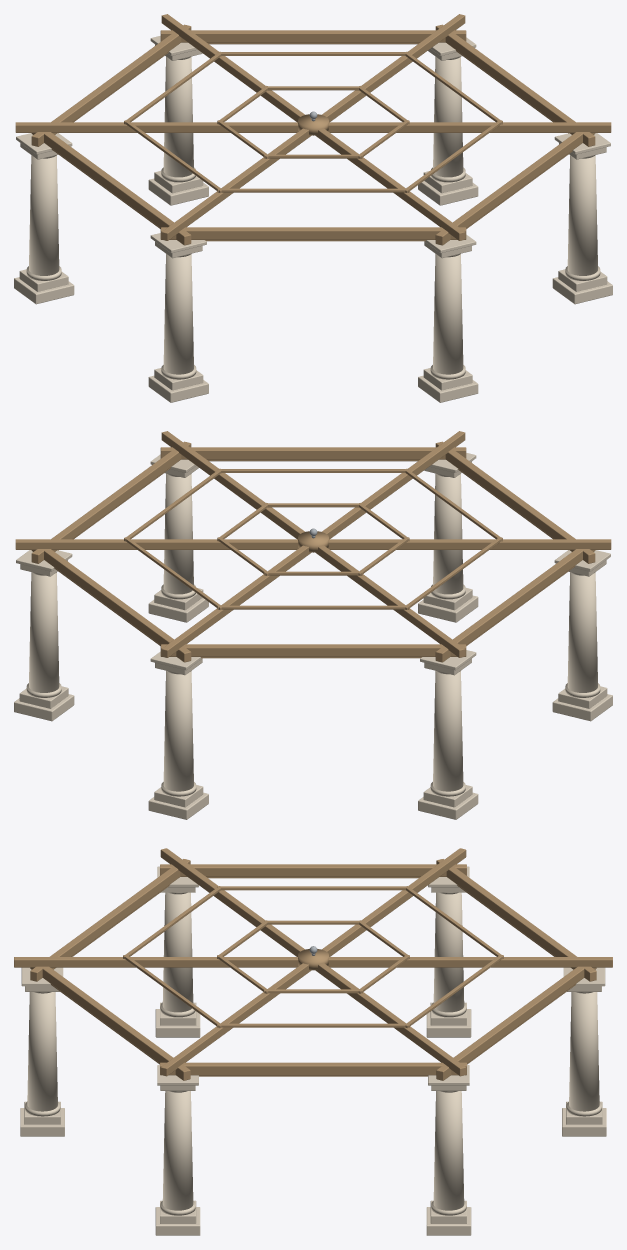
Rendered from park_pergola.glb.
The picture shows the model from 3 angles, top to bottom: view 1: azimuth 30°, elevation 25°; view 2: azimuth 150°, elevation 25°; view 3: azimuth 270°, elevation 25°; orthographic projection.
Visible parts, largest first — view 1: pergola_ring_beam.003, pergola_column.004, pergola_column.003, pergola_column.002, pergola_column.005, pergola_ring_beam, pergola_rafter.002, pergola_rafter.005, pergola_column, pergola_column.001, pergola_ring_beam.004, pergola_ring_beam.002 (+23 smaller); view 2: pergola_ring_beam.001, pergola_column.001, pergola_column.002, pergola_column, pergola_column.003, pergola_ring_beam.004, pergola_rafter, pergola_rafter.003, pergola_column.004, pergola_column.005, pergola_ring_beam.002, pergola_ring_beam (+23 smaller); view 3: pergola_ring_beam.005, pergola_column, pergola_column.001, pergola_column.004, pergola_column.005, pergola_ring_beam.002, pergola_rafter.001, pergola_rafter.004, pergola_column.002, pergola_column.003, pergola_ring_beam.004, pergola_ring_beam (+18 smaller).
Part boxes in pixels (left/top/right/bottom): pergola_ring_beam.003: left=160, top=227, right=466, bottom=239; pergola_column.004: left=433, top=254, right=463, bottom=374; pergola_column.003: left=163, top=254, right=193, bottom=374; pergola_column.002: left=29, top=155, right=59, bottom=275; pergola_column.005: left=567, top=155, right=597, bottom=275; pergola_ring_beam: left=160, top=30, right=466, bottom=42; pergola_rafter.002: left=15, top=122, right=298, bottom=132; pergola_rafter.005: left=328, top=122, right=611, bottom=132; pergola_column: left=433, top=57, right=463, bottom=177; pergola_column.001: left=163, top=57, right=193, bottom=177; pergola_ring_beam.004: left=435, top=132, right=595, bottom=245; pergola_ring_beam.002: left=31, top=132, right=191, bottom=245; pergola_ring_beam.001: left=160, top=644, right=466, bottom=656; pergola_column.001: left=163, top=671, right=193, bottom=791; pergola_column.002: left=433, top=671, right=463, bottom=791; pergola_column: left=29, top=572, right=59, bottom=692; pergola_column.003: left=567, top=572, right=597, bottom=692; pergola_ring_beam.004: left=160, top=447, right=466, bottom=459; pergola_rafter: left=15, top=539, right=298, bottom=549; pergola_rafter.003: left=328, top=539, right=611, bottom=549; pergola_column.004: left=433, top=474, right=463, bottom=594; pergola_column.005: left=163, top=474, right=193, bottom=594; pergola_ring_beam.002: left=435, top=549, right=595, bottom=662; pergola_ring_beam: left=31, top=549, right=191, bottom=662; pergola_ring_beam.005: left=160, top=1062, right=466, bottom=1075; pergola_column: left=433, top=1091, right=464, bottom=1210; pergola_column.001: left=569, top=992, right=599, bottom=1111; pergola_column.004: left=27, top=992, right=57, bottom=1111; pergola_column.005: left=162, top=1091, right=193, bottom=1210; pergola_ring_beam.002: left=160, top=864, right=466, bottom=876; pergola_rafter.001: left=328, top=957, right=612, bottom=967; pergola_rafter.004: left=14, top=957, right=298, bottom=967; pergola_column.002: left=433, top=892, right=464, bottom=1012; pergola_column.003: left=162, top=892, right=193, bottom=1012; pergola_ring_beam.004: left=30, top=966, right=190, bottom=1080; pergola_ring_beam: left=436, top=966, right=596, bottom=1080.
Size of the model in its own units: 10.02 by 3.83 by 11.5.
